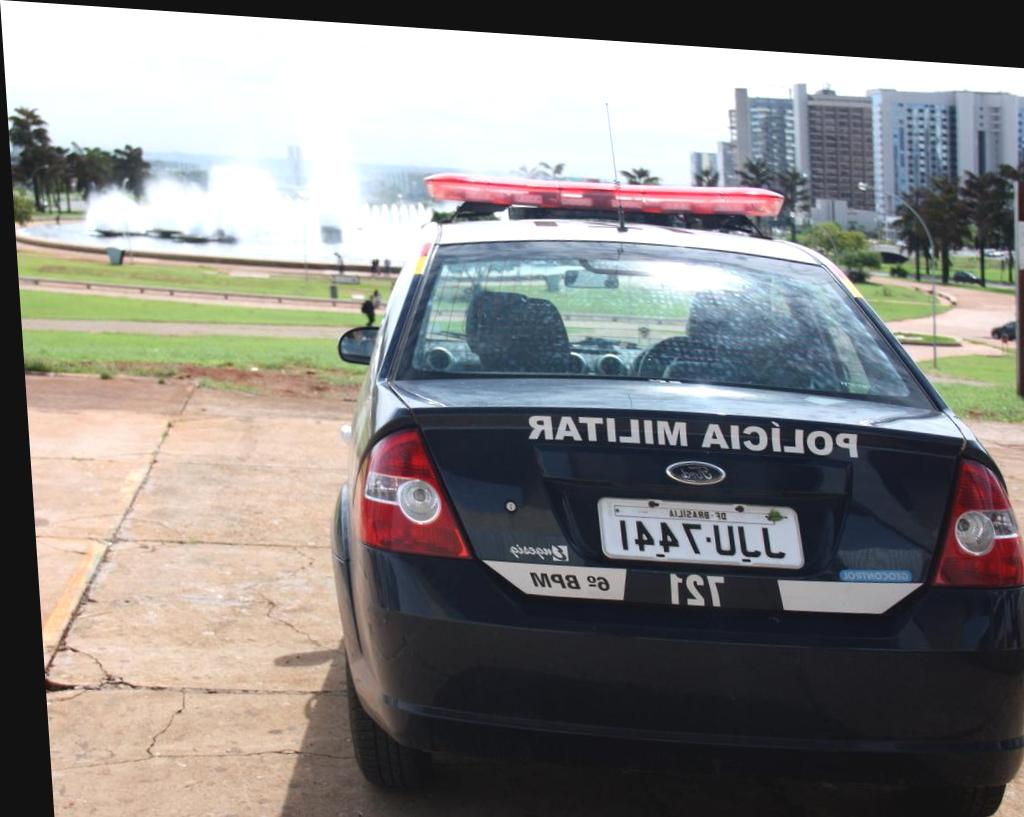License_Plate: (597, 489, 806, 573)
